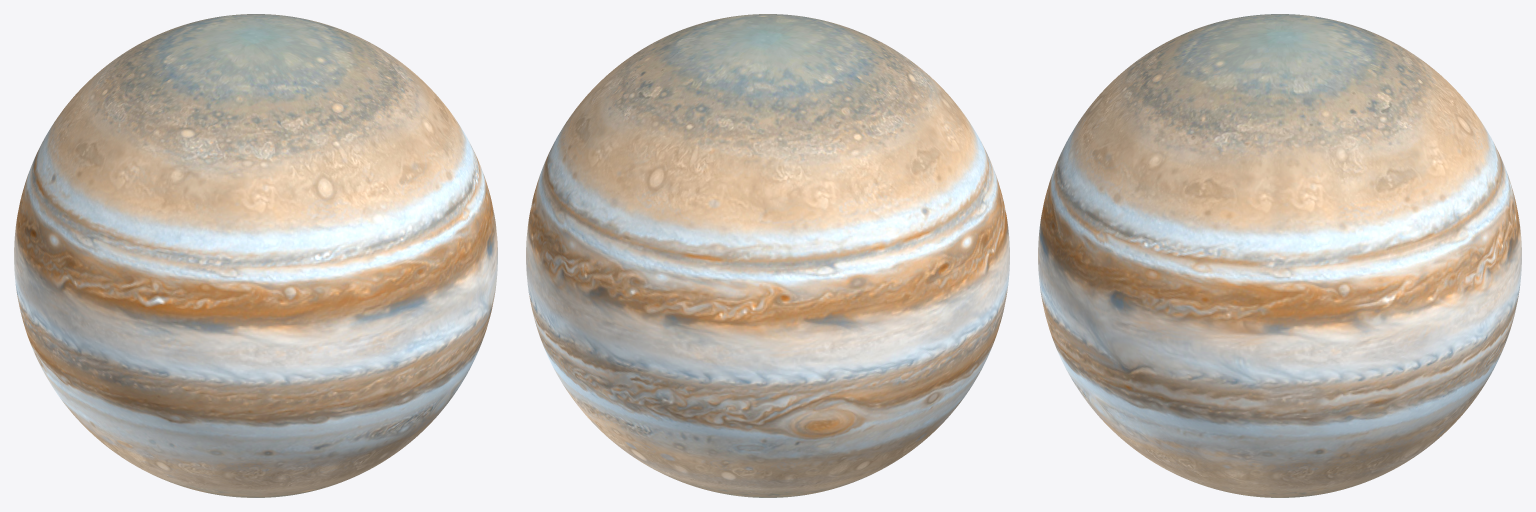
File: jupitar.glb
3 views of the same model, side by side, from view 1: azimuth 30°, elevation 25°; view 2: azimuth 150°, elevation 25°; view 3: azimuth 270°, elevation 25° (orthographic).
Visible parts, largest first — view 1: pSphere1; view 2: pSphere1; view 3: pSphere1.
Boxes of the visible parts, <box> form: pSphere1: <box>14,14,497,497</box>; pSphere1: <box>526,14,1009,497</box>; pSphere1: <box>1038,14,1521,497</box>.
Size of the model in its own units: 0.1348 by 0.1348 by 0.1348.
Materials: 1 (1 with a texture image).
